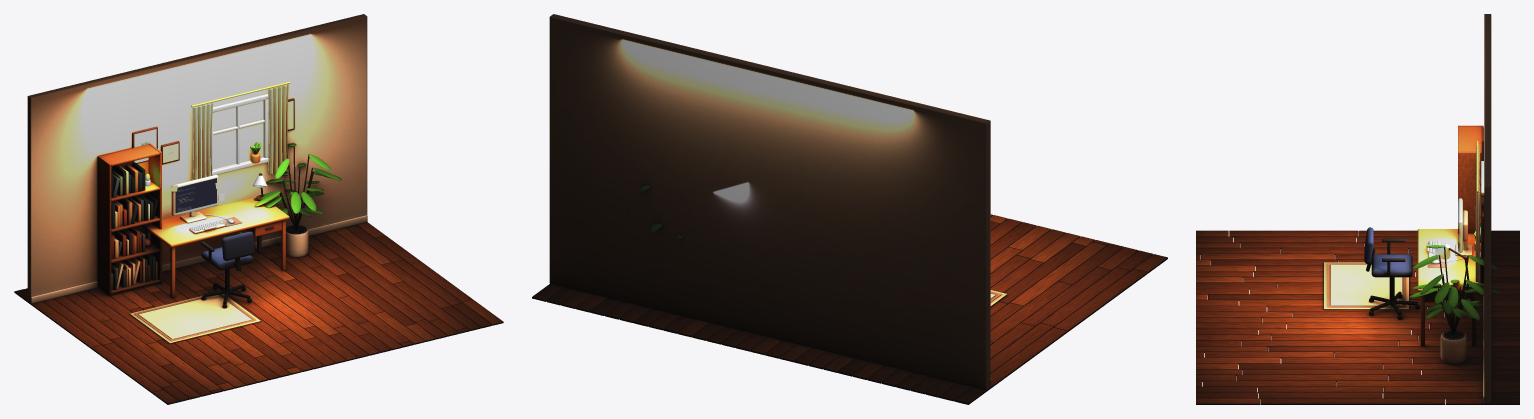
Rendered from desk_scene.glb.
The picture shows the model from 3 angles, left to right: view 1: azimuth 30°, elevation 25°; view 2: azimuth 150°, elevation 25°; view 3: azimuth 270°, elevation 25°; orthographic projection. The views are drawn at different scales.
Parts seen in each view (by area): view 1: baked_room, baked_floor, baked_props, baked_desk, chair, monitor_screen; view 2: baked_room, baked_floor; view 3: baked_floor, baked_room, baked_desk, chair, baked_props.
Part boxes in pixels (<box>): baked_room: <box>27,14,367,303</box>; baked_floor: <box>14,143,503,404</box>; baked_props: <box>97,142,261,296</box>; baked_desk: <box>142,173,289,297</box>; chair: <box>200,231,254,308</box>; monitor_screen: <box>175,178,216,212</box>; baked_room: <box>549,14,991,389</box>; baked_floor: <box>532,184,1167,404</box>; baked_floor: <box>1196,230,1519,404</box>; baked_room: <box>1475,14,1491,403</box>; baked_desk: <box>1417,198,1478,345</box>; chair: <box>1364,227,1420,319</box>; baked_props: <box>1458,125,1483,283</box>.
Bounding box in the file's own units: 4.8 × 2.82 × 3.79.
Materials: 6 (6 with a texture image).
